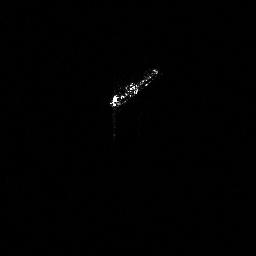ship: (110, 69, 158, 106)
